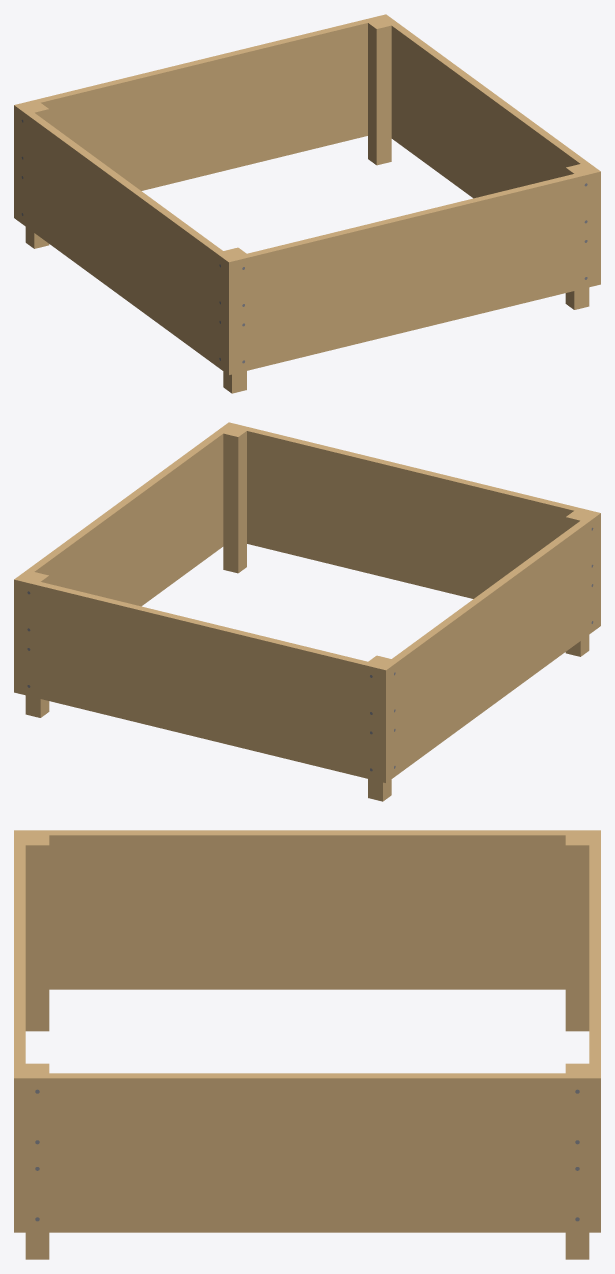
The picture shows the model from 3 angles, top to bottom: view 1: azimuth 30°, elevation 25°; view 2: azimuth 150°, elevation 25°; view 3: azimuth 270°, elevation 25°; orthographic projection. The views are drawn at different scales.
Parts seen in each view (by area): view 1: front_2, front_1, back_2, back_1, left_2, left_1, right_2, right_1, post_br, post_fr, post_fl, post_bl; view 2: back_2, back_1, front_2, front_1, left_2, left_1, right_2, right_1, post_fr, post_br, post_bl, post_fl; view 3: right_2, right_1, left_2, left_1, post_fl, post_bl, front_2, back_2, post_fr, post_br, front_1, back_1.
Part boxes in pixels (x1,y1,x2,y2): front_2: (224,168,600,318); front_1: (224,228,600,374); back_2: (14,14,389,164); back_1: (14,79,367,220); left_2: (18,106,231,315); left_1: (18,165,224,371); right_2: (383,17,596,184); right_1: (391,82,530,198); post_br: (368,19,391,165); post_fr: (565,164,589,309); post_fl: (223,247,246,393); post_bl: (25,103,49,248); back_2: (14,576,390,726); back_1: (14,636,390,782); front_2: (225,422,600,572); front_1: (247,487,600,628); left_2: (383,514,596,723); left_1: (390,573,596,779); right_2: (18,425,231,592); right_1: (84,490,223,606); post_fr: (223,427,246,573); post_br: (25,572,49,717); post_bl: (368,655,391,801); post_fl: (565,511,589,656); right_2: (25,1073,589,1155); right_1: (25,1155,589,1232); left_2: (25,830,589,912); left_1: (49,912,565,989); post_fl: (25,835,49,1031); post_bl: (565,835,589,1031); front_2: (14,830,25,1155); back_2: (589,830,600,1155); post_fr: (25,1063,49,1259); post_br: (565,1063,589,1259); front_1: (14,1155,25,1232); back_1: (589,1155,600,1232).
Bounding box in the file's own units: 1000 × 350 × 1000.
